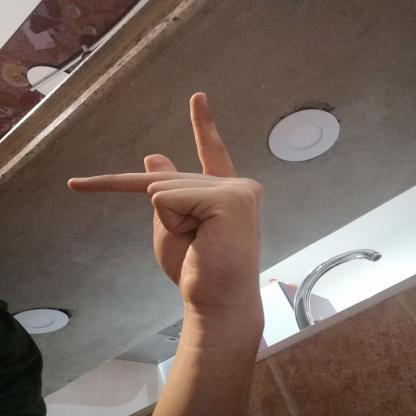DHAA: (50, 81, 278, 320)
